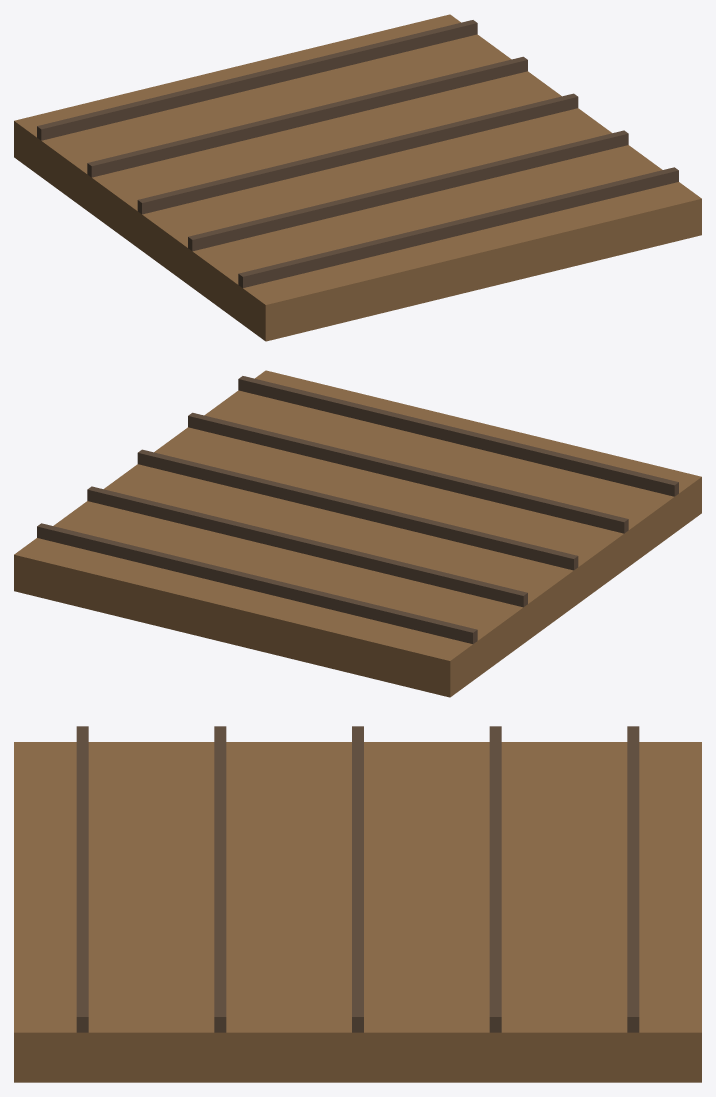
The model's file is architecture-village-floor.lod0.glb.
3 views of the same model, one above another, from view 1: azimuth 30°, elevation 25°; view 2: azimuth 150°, elevation 25°; view 3: azimuth 270°, elevation 25° (orthographic). The views are drawn at different scales.
Parts seen in each view (by area): view 1: architecture-village-floor__body; view 2: architecture-village-floor__body; view 3: architecture-village-floor__body.
Boxes of the visible parts, left/top/right/bottom form: architecture-village-floor__body: left=14, top=14, right=701, bottom=341; architecture-village-floor__body: left=14, top=370, right=701, bottom=697; architecture-village-floor__body: left=14, top=726, right=701, bottom=1082.
Size of the model in its own units: 2 by 0.21 by 2.
